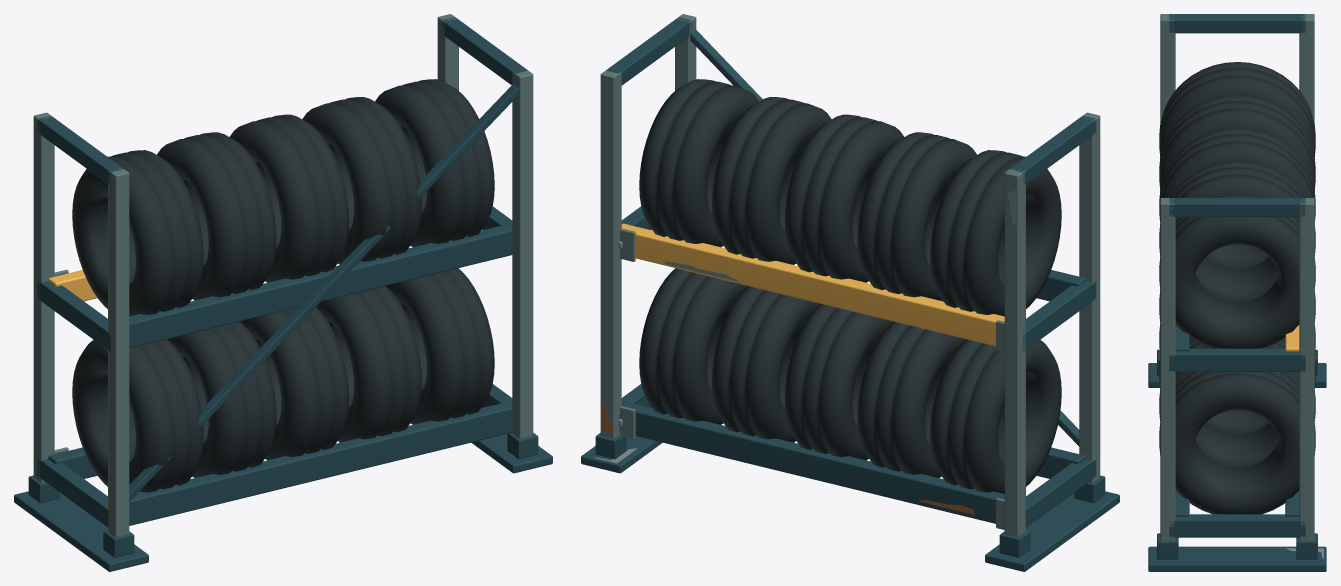
File: d08_repair_furniture_02.glb
3 renders of one model, left to right at view 1: azimuth 30°, elevation 25°; view 2: azimuth 150°, elevation 25°; view 3: azimuth 270°, elevation 25°, orthographic. The views are drawn at different scales.
Parts seen in each view (by area): view 1: D08RepairFurniture02_Mesh; view 2: D08RepairFurniture02_Mesh; view 3: D08RepairFurniture02_Mesh.
Boxes of the visible parts, bbox=[...] form: D08RepairFurniture02_Mesh: bbox=[14, 14, 552, 571]; D08RepairFurniture02_Mesh: bbox=[581, 14, 1119, 571]; D08RepairFurniture02_Mesh: bbox=[1148, 14, 1326, 571].
Bounding box in the file's own units: 2.2 × 1.84 × 0.82.
